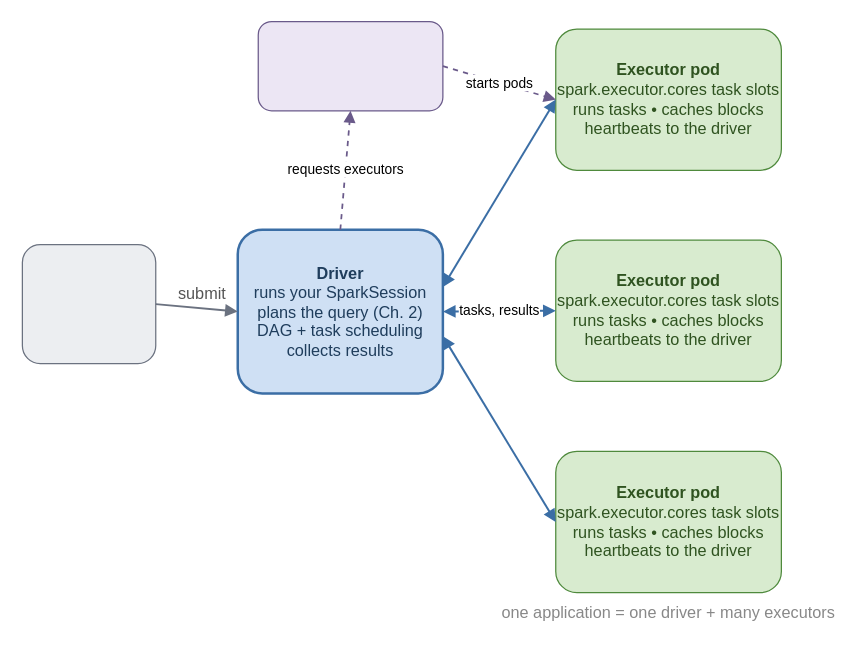
The diagram is 856 pixels wide and 645 high, and some of its shapes have lost their labels. Here are the shapes that lost their labels. From the top down, the centre of each, then its label:
At point 350,65: "Kubernetes API the cluster manager".
At point 88,303: "Client your session: spark-submit, shell or notebook".
